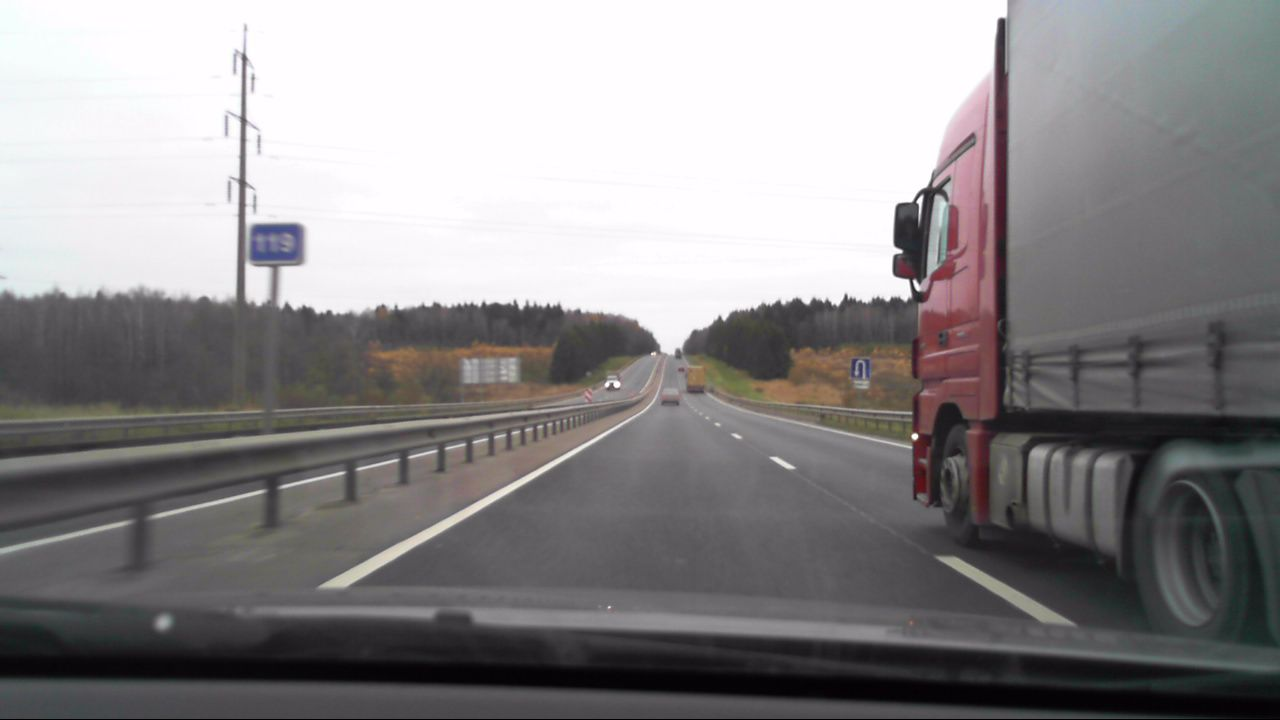U-turn: (851, 358, 870, 380)
